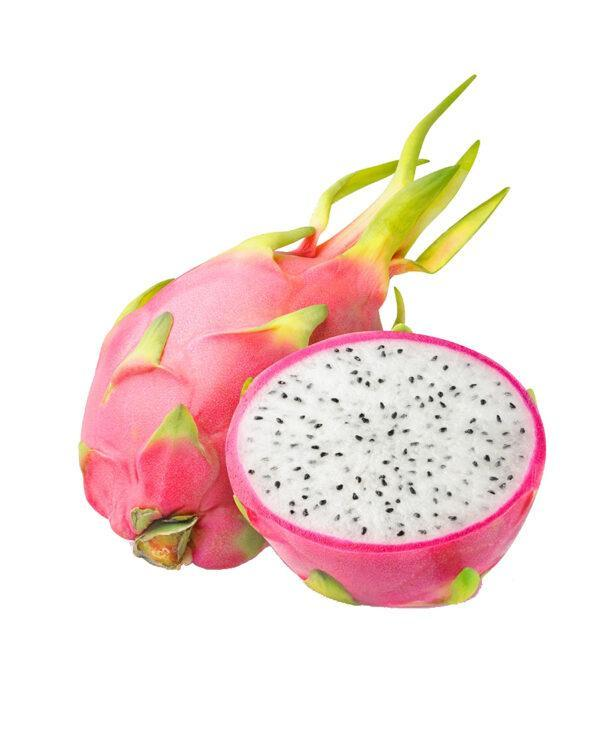dragon-fruit: (75, 248, 385, 573), (223, 328, 550, 610)
